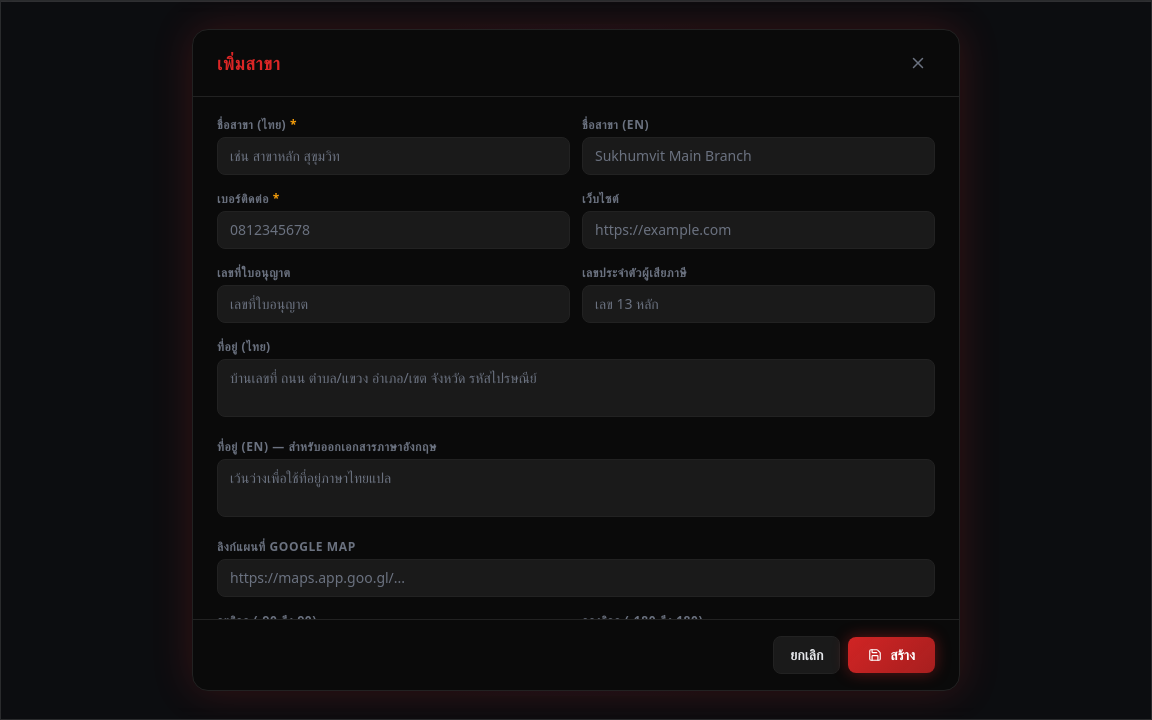
BranchFormModal — BM1..BM7 › BM3: save empty name → error
Click the button "สร้าง".
click(892, 655)  # box [848,637,935,673]
(page scrolled)
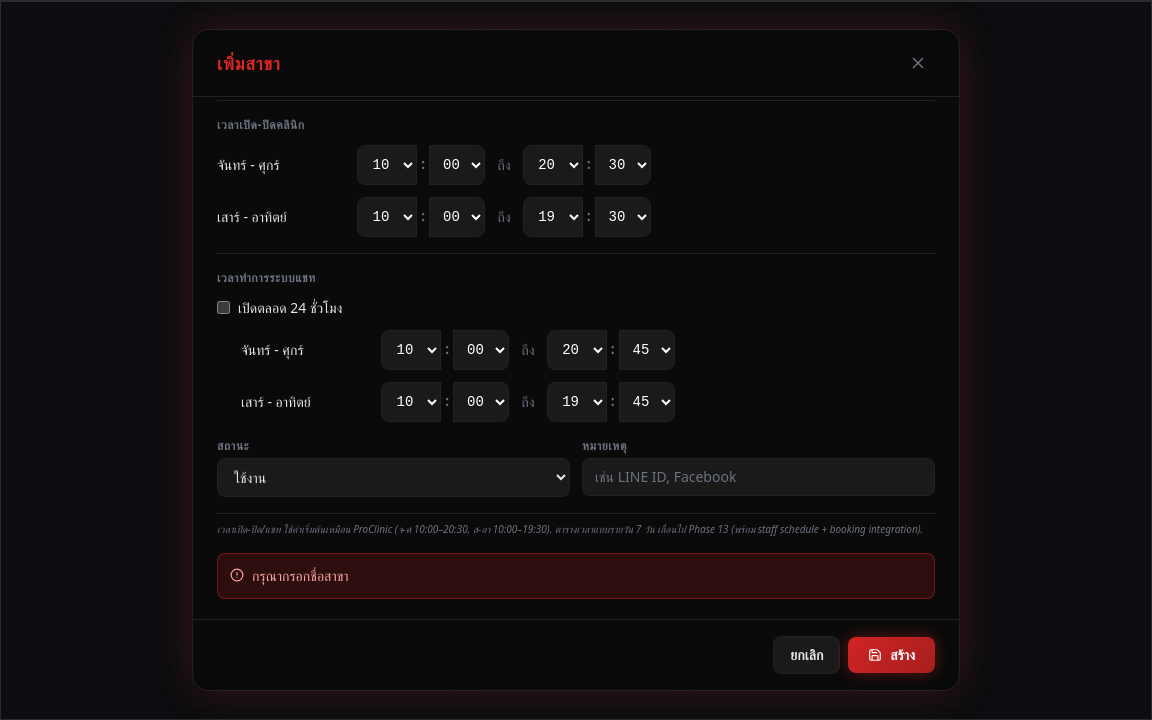
Check: the text "กรุณากรอกชื่อสาขา" is shown, box [252,566,349,586]
